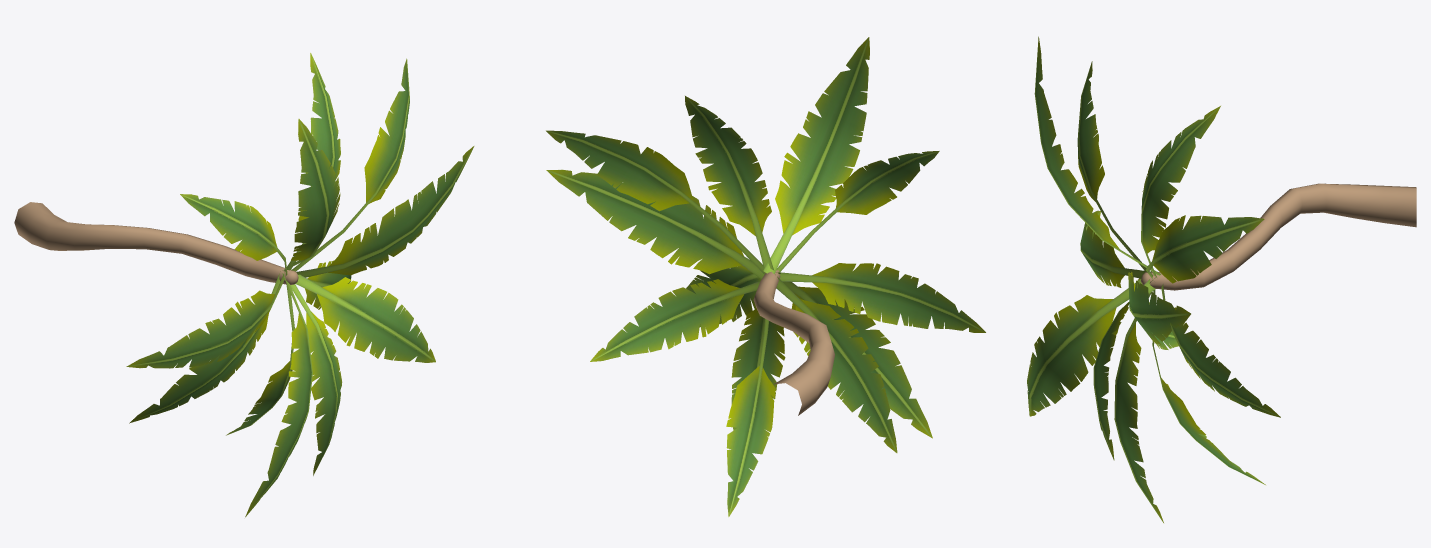
File: palm_tree_04.glb
The picture shows the model from 3 angles, left to right: view 1: azimuth 30°, elevation 25°; view 2: azimuth 150°, elevation 25°; view 3: azimuth 270°, elevation 25°; orthographic projection. The views are drawn at different scales.
Parts seen in each view (by area): view 1: PalmTree_4; view 2: PalmTree_4; view 3: PalmTree_4.
Part boxes in pixels (x1=…): PalmTree_4: x1=14, y1=53, x2=474, y2=517; PalmTree_4: x1=546, y1=37, x2=985, y2=516; PalmTree_4: x1=1027, y1=36, x2=1416, y2=522.
Size of the model in its own units: 4.75 by 4.95 by 3.65.
Materials: 2 (1 with a texture image).
